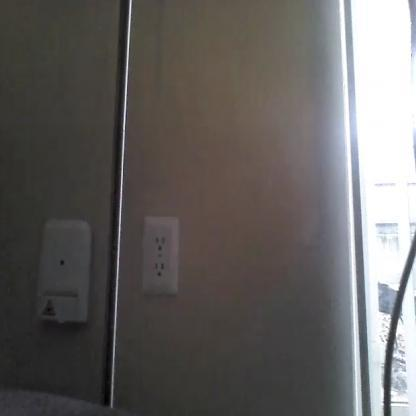OUTLET: (143, 216, 179, 296)
